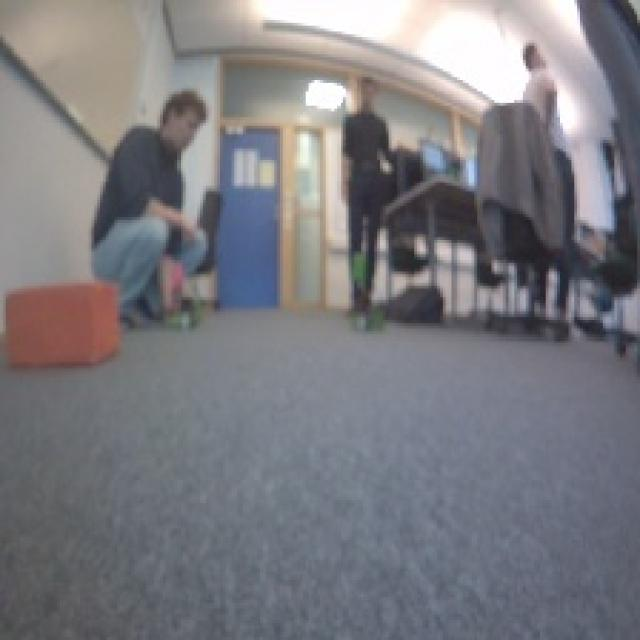robot: (163, 291, 206, 332), (345, 296, 390, 334)
target: (3, 277, 120, 369)
